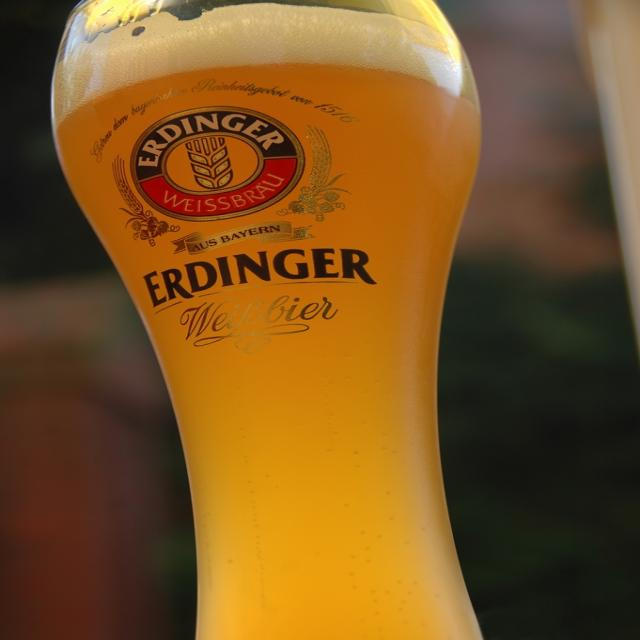erdinger: (85, 77, 385, 317)
